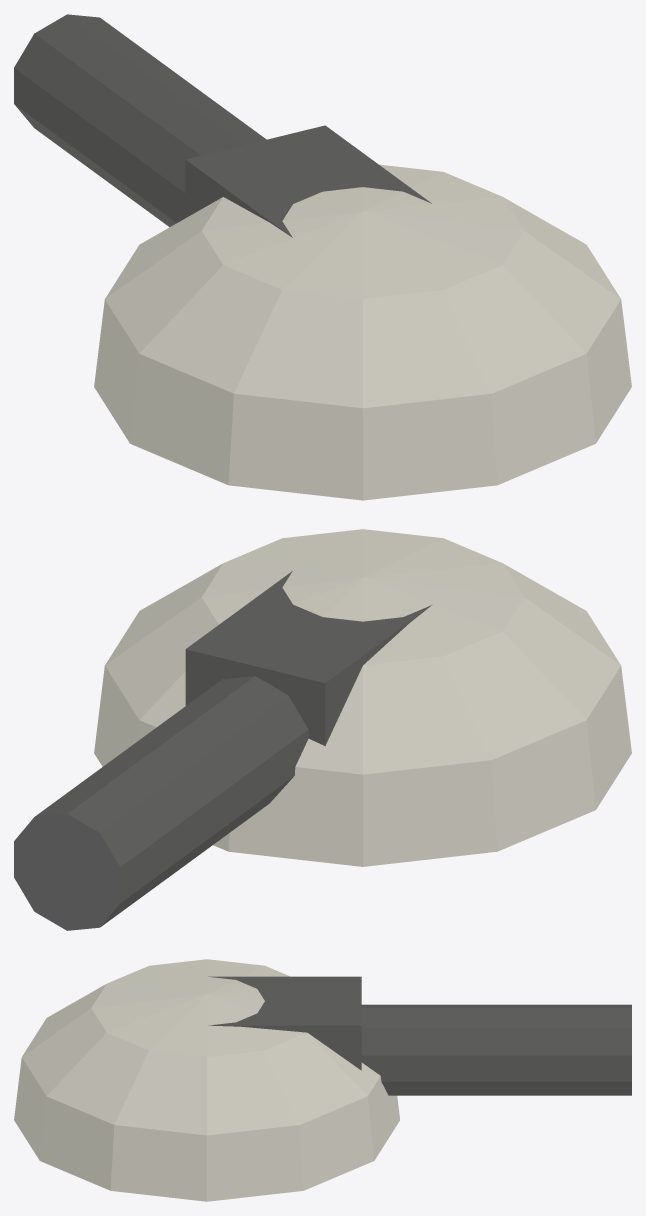
The model's file is Building_Turret_AutoInferno__Top.glb.
The picture shows the model from 3 angles, top to bottom: view 1: azimuth 30°, elevation 25°; view 2: azimuth 150°, elevation 25°; view 3: azimuth 270°, elevation 25°; orthographic projection. The views are drawn at different scales.
Parts seen in each view (by area): view 1: Turret_AutoInferno__Top; view 2: Turret_AutoInferno__Top; view 3: Turret_AutoInferno__Top.
Boxes of the visible parts, x1,y1,x2,y2 form: Turret_AutoInferno__Top: [14, 14, 631, 500]; Turret_AutoInferno__Top: [14, 529, 631, 930]; Turret_AutoInferno__Top: [14, 959, 631, 1201].
Bounding box in the file's own units: 1 × 0.36 × 1.6.
1 material, 1 textured.
